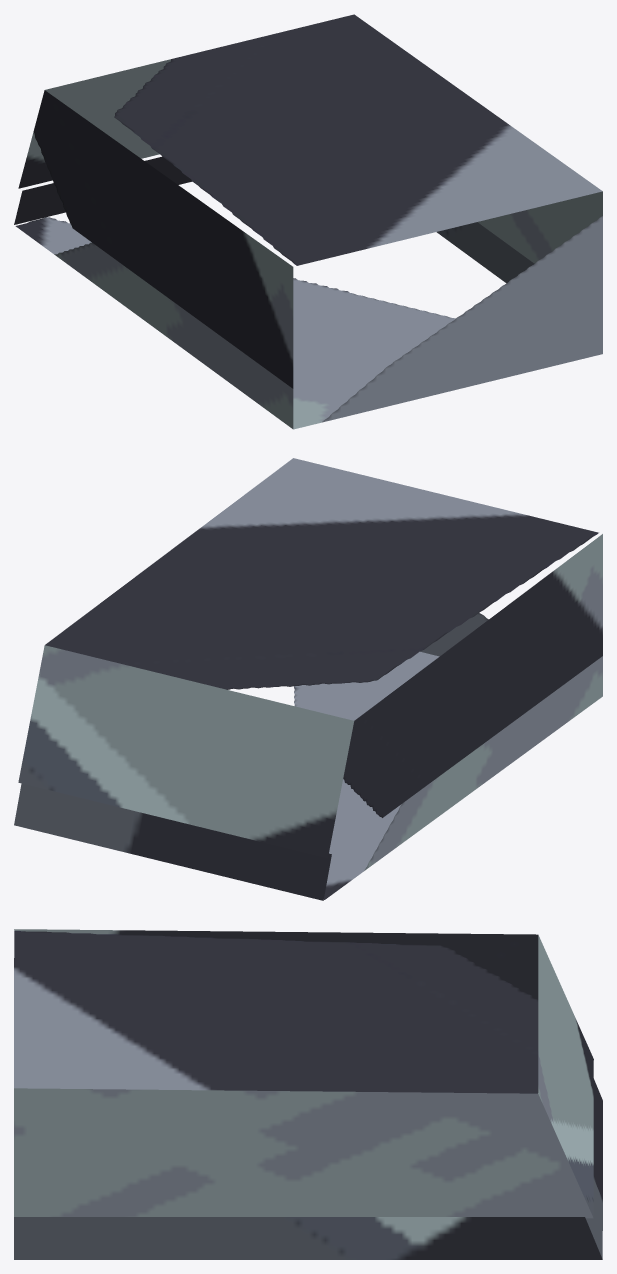
Rendered from ss8_carport_lh.obj.
The picture shows the model from 3 angles, top to bottom: view 1: azimuth 30°, elevation 25°; view 2: azimuth 150°, elevation 25°; view 3: azimuth 270°, elevation 25°; orthographic projection. The views are drawn at different scales.
Parts seen in each view (by area): view 1: cube_selection_selection_selection_selection_selection_selection; view 2: cube_selection_selection_selection_selection_selection_selection; view 3: cube_selection_selection_selection_selection_selection_selection.
Boxes of the visible parts, <box> form: cube_selection_selection_selection_selection_selection_selection: <box>14,14,602,429</box>; cube_selection_selection_selection_selection_selection_selection: <box>14,458,602,900</box>; cube_selection_selection_selection_selection_selection_selection: <box>14,929,602,1259</box>.
Size of the model in its own units: 1 by 0.5022 by 1.56.
